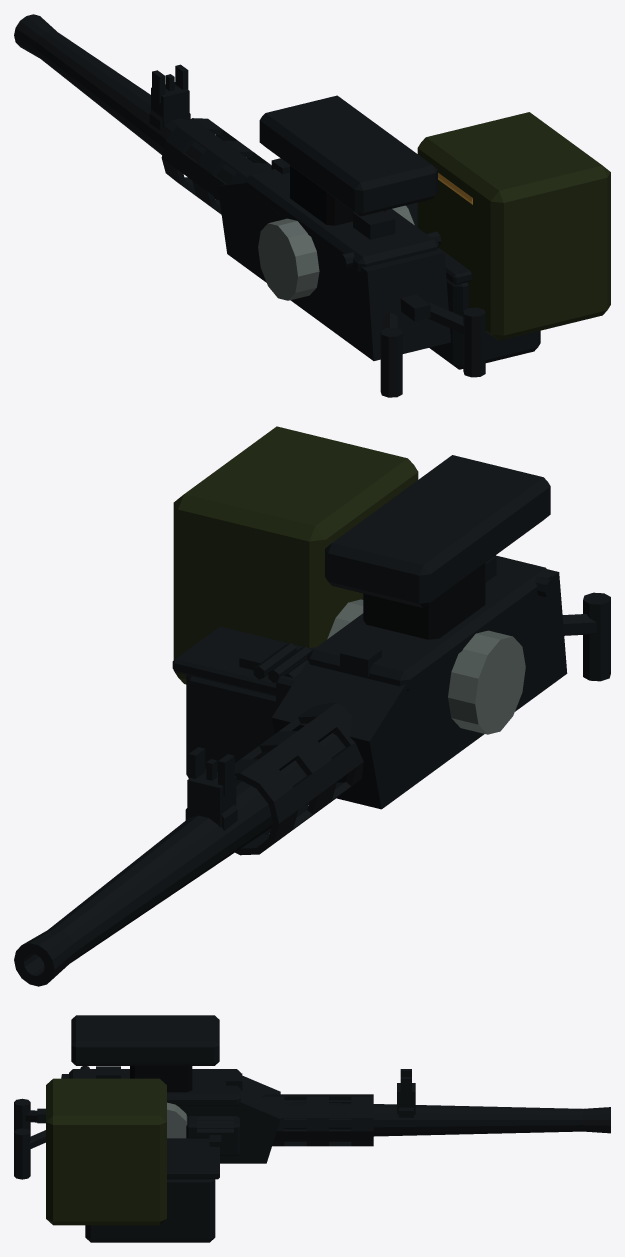
Rendered from Gun127.obj.
3 views of the same model, one above another, from view 1: azimuth 30°, elevation 25°; view 2: azimuth 150°, elevation 25°; view 3: azimuth 270°, elevation 25° (orthographic). The views are drawn at different scales.
Visible parts, largest first — view 1: Gun127_pitch, Detachable_feed_box, Mount_lug, Pitch_trunnion, Mount_bearing_bridge; view 2: Gun127_pitch, Detachable_feed_box, Mount_lug, Pitch_trunnion, Mount_bearing_bridge; view 3: Gun127_pitch, Detachable_feed_box, Mount_lug, Mount_bearing_bridge, Pitch_trunnion.
Boxes of the visible parts, x1,y1,x2,y2 form: Gun127_pitch: (14, 14, 540, 397); Detachable_feed_box: (417, 112, 610, 340); Mount_lug: (259, 95, 437, 216); Pitch_trunnion: (258, 205, 414, 300); Mount_bearing_bridge: (290, 165, 385, 225); Gun127_pitch: (14, 555, 610, 986); Detachable_feed_box: (173, 426, 418, 684); Mount_lug: (325, 455, 550, 607); Pitch_trunnion: (327, 599, 525, 734); Mount_bearing_bridge: (363, 563, 485, 639); Gun127_pitch: (14, 1066, 610, 1242); Detachable_feed_box: (46, 1078, 166, 1225); Mount_lug: (71, 1015, 219, 1065); Mount_bearing_bridge: (130, 1066, 192, 1092); Pitch_trunnion: (167, 1102, 187, 1138).
Size of the model in its own units: 0.56 by 0.4569 by 1.53.
